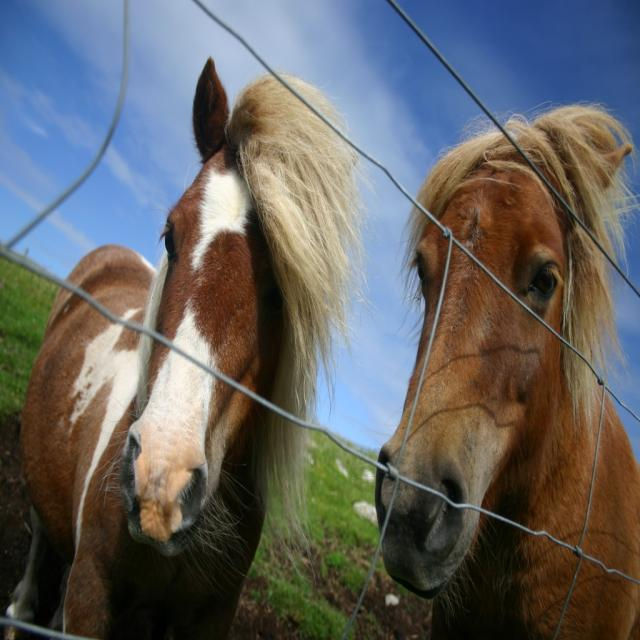Horse: (2, 58, 375, 640), (374, 100, 640, 640)
